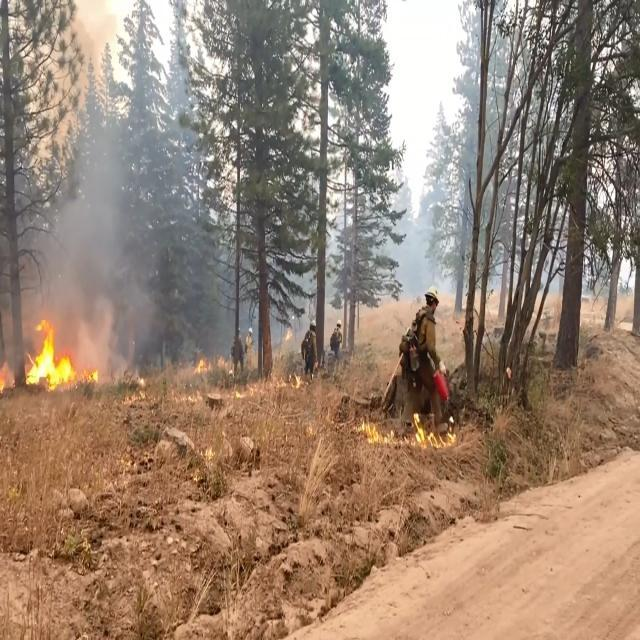Fire: (5, 294, 101, 398)
